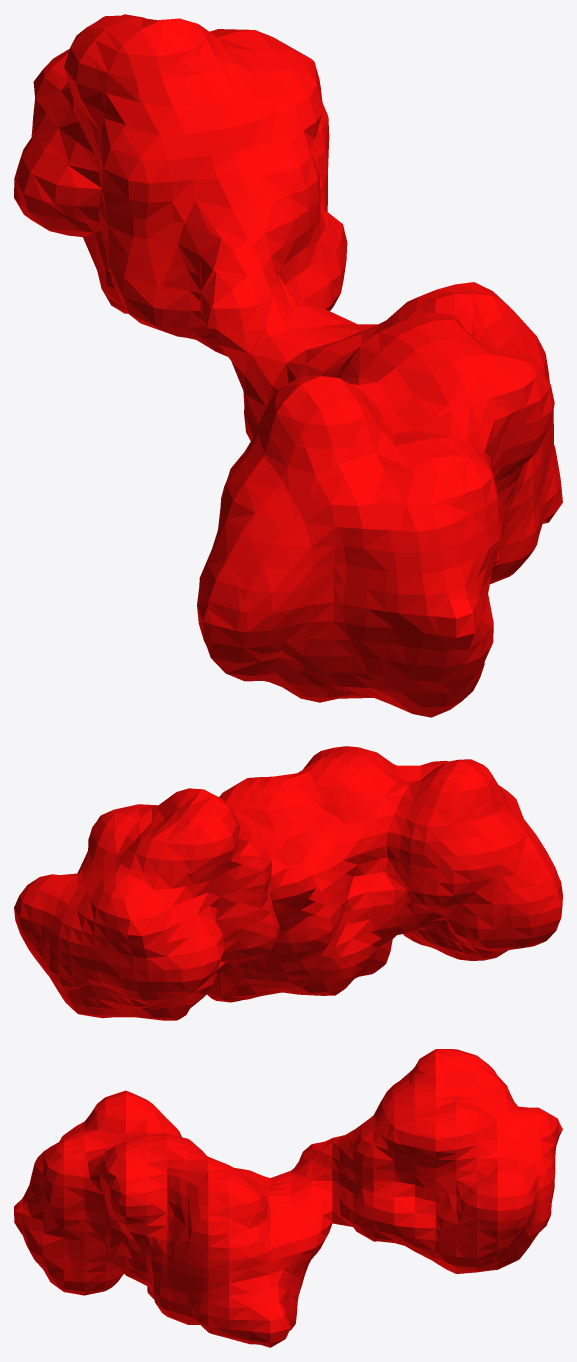
Rendered from ahpF_coarse.dae.
3 views of the same model, one above another, from view 1: azimuth 30°, elevation 25°; view 2: azimuth 150°, elevation 25°; view 3: azimuth 270°, elevation 25° (orthographic). The views are drawn at different scales.
Parts seen in each view (by area): view 1: ahpF; view 2: ahpF; view 3: ahpF.
Part boxes in pixels (<box>): ahpF: <box>14,14,562,717</box>; ahpF: <box>14,746,562,1020</box>; ahpF: <box>14,1049,562,1347</box>.
Size of the model in its own units: 67.41 by 61.86 by 119.
